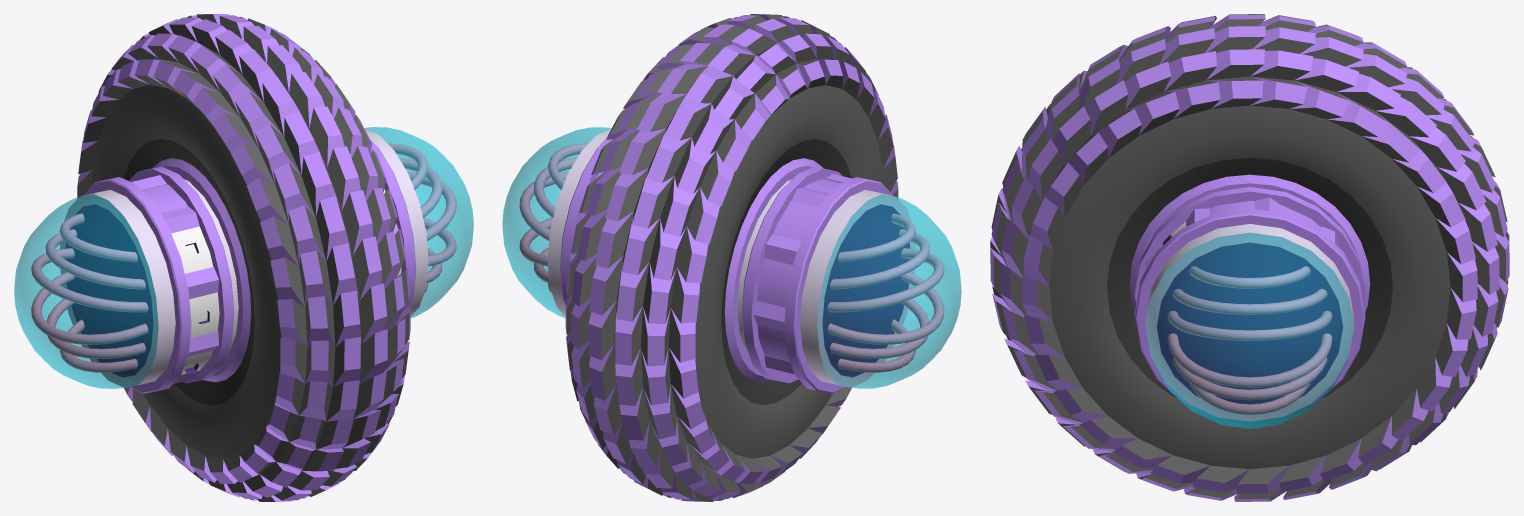
Rendered from Lickquidator_DireTire.fbx.
3 renders of one model, left to right at view 1: azimuth 30°, elevation 25°; view 2: azimuth 150°, elevation 25°; view 3: azimuth 270°, elevation 25°, orthographic. The views are drawn at different scales.
Visible parts, largest first — view 1: wheel, body_dome, body_frame, visors, brains, dividers; view 2: wheel, body_dome, body_frame, visors, brains, dividers; view 3: wheel, body_dome, body_frame, visors, brains, dividers.
Boxes of the visible parts, left/top/right/bottom form: wheel: left=77, top=14, right=410, bottom=501; body_dome: left=14, top=127, right=473, bottom=388; body_frame: left=60, top=128, right=428, bottom=387; visors: left=83, top=139, right=416, bottom=393; brains: left=31, top=143, right=456, bottom=372; dividers: left=131, top=175, right=398, bottom=383; wheel: left=565, top=14, right=898, bottom=501; body_dome: left=502, top=127, right=961, bottom=388; body_frame: left=547, top=128, right=915, bottom=387; visors: left=560, top=139, right=892, bottom=393; brains: left=519, top=143, right=944, bottom=372; dividers: left=582, top=174, right=851, bottom=373; wheel: left=990, top=14, right=1509, bottom=501; body_dome: left=1146, top=233, right=1353, bottom=428; body_frame: left=1145, top=224, right=1354, bottom=421; visors: left=1134, top=187, right=1365, bottom=421; brains: left=1167, top=266, right=1332, bottom=414; dividers: left=1145, top=197, right=1338, bottom=270.
Bounding box in the file's own units: 3.18 × 3.15 × 3.15.
